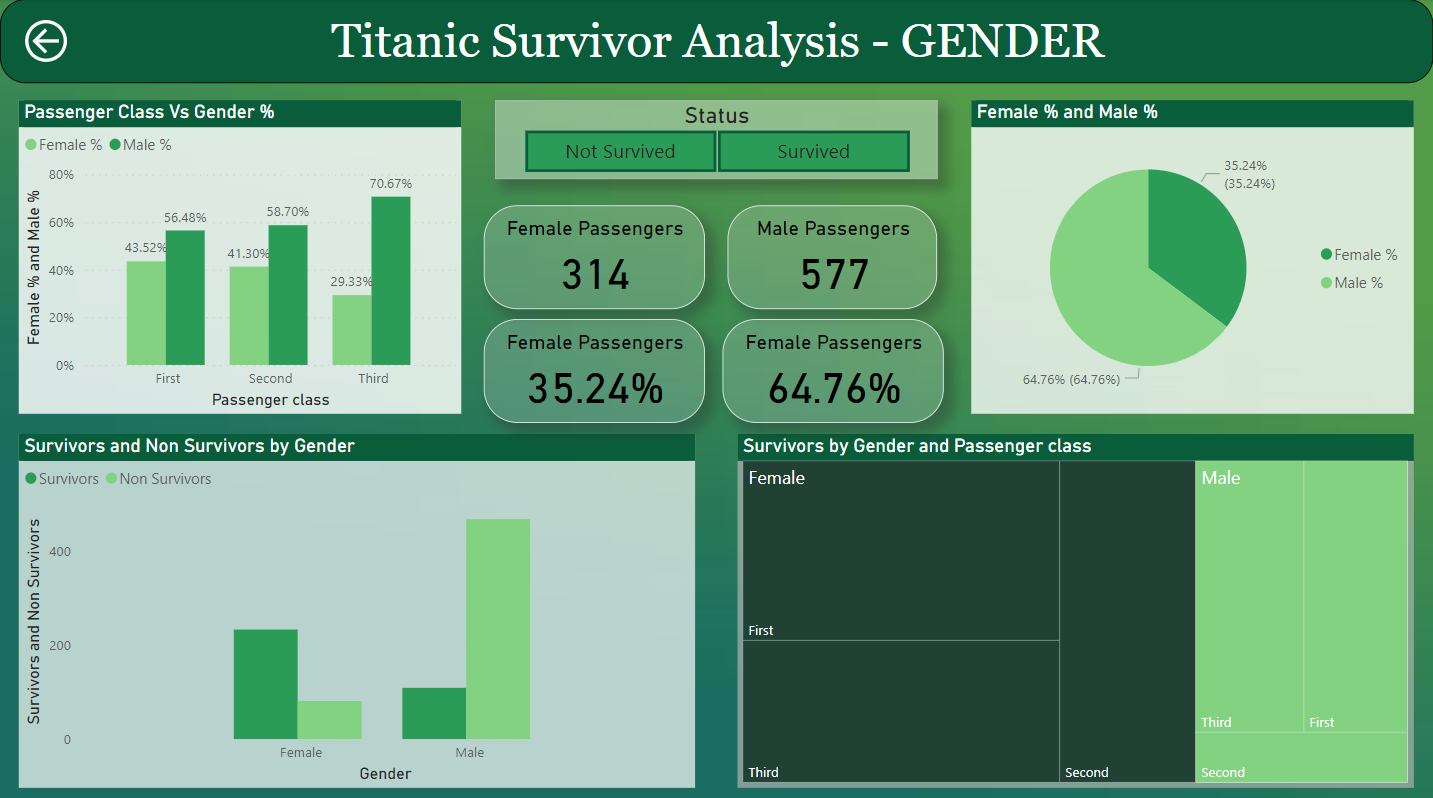

Layout of this report page (visuals, bound fields, positions):
{"tool":"powerbi","page":{"name":"Page 4","canvas":[1280,720],"ordinal":3},"visuals":[{"type":"textbox","box":[0,0,1280,75],"z":0},{"type":"actionButton","box":[16.2,12.5,48.8,50],"z":1000},{"type":"clusteredColumnChart","title":"Passenger Class Vs Gender %","fields":{"Category":["train.Passenger class"],"Y":["train.Female %","train.Male %"]},"box":[16.2,90,395,280],"z":2000},{"type":"treemap","fields":{"Values":["train.Survivors"],"Group":["train.Gender"],"Details":["train.Passenger class"]},"box":[658.8,388.8,603.8,316.2],"z":3000},{"type":"pieChart","fields":{"Y":["train.Female %","train.Male %"]},"box":[867.5,90,395,280],"z":4000},{"type":"clusteredColumnChart","fields":{"Category":["train.Gender"],"Y":["train.Survivors","train.Non Survivors"]},"box":[16.2,388.8,603.8,316.2],"z":5000},{"type":"slicer","title":"Status","fields":{"Values":["train.Survived"]},"box":[442.5,90,395,70],"z":6000},{"type":"card","title":"Male Passengers","fields":{"Values":["train.male Passengers"]},"box":[650,183.8,187.5,92.5],"z":7000},{"type":"card","title":"Female Passengers","fields":{"Values":["train.female Passengers"]},"box":[432.5,183.8,197.5,92.5],"z":8000},{"type":"card","title":"Female Passengers","fields":{"Values":["train.Female %"]},"box":[432.5,286.2,197.5,92.5],"z":9000},{"type":"card","title":"Female Passengers","fields":{"Values":["train.Male %"]},"box":[645,286.2,197.5,92.5],"z":10000}]}

Visuals, with their boxes in screenshot pixels (x1, y1, x2, y2), scaled from the page's 1280x720 canvas onto the 1433x798 screenshot:
textbox: box(0, 0, 1432, 83)
actionButton: box(18, 14, 73, 69)
"Passenger Class Vs Gender %" clusteredColumnChart: box(18, 100, 460, 410)
treemap - train.Survivors x train.Gender: box(738, 431, 1414, 781)
pieChart - train.Female % x train.Male %: box(971, 100, 1413, 410)
clusteredColumnChart - train.Gender x train.Survivors: box(18, 431, 694, 781)
"Status" slicer: box(495, 100, 938, 177)
"Male Passengers" card: box(728, 204, 938, 306)
"Female Passengers" card: box(484, 204, 705, 306)
"Female Passengers" card: box(484, 317, 705, 420)
"Female Passengers" card: box(722, 317, 943, 420)
